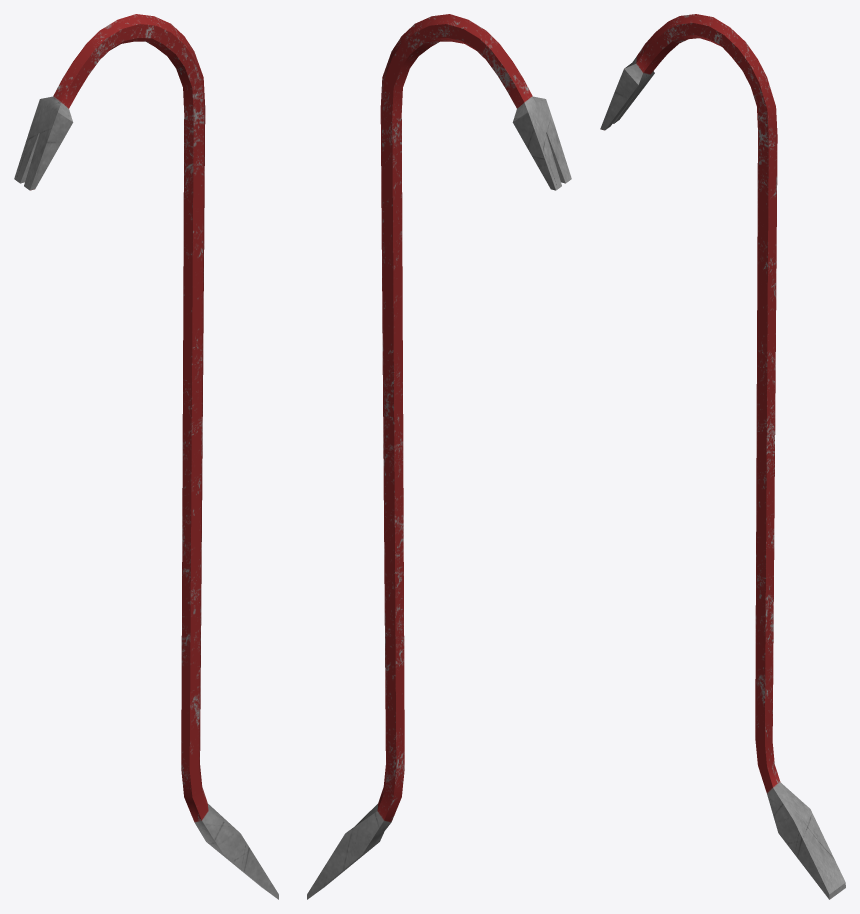
The model's file is crowbar.fbx.
3 renders of one model, left to right at view 1: azimuth 30°, elevation 25°; view 2: azimuth 150°, elevation 25°; view 3: azimuth 330°, elevation 25°, orthographic. The views are drawn at different scales.
Parts seen in each view (by area): view 1: polySurface88; view 2: polySurface88; view 3: polySurface88.
Boxes of the visible parts, x1,y1,x2,y2 form: polySurface88: (14,14,278,899); polySurface88: (307,14,571,899); polySurface88: (600,14,845,899).
Size of the model in its own units: 17.54 by 61.63 by 2.2.
Materials: 1 (1 with a texture image).
